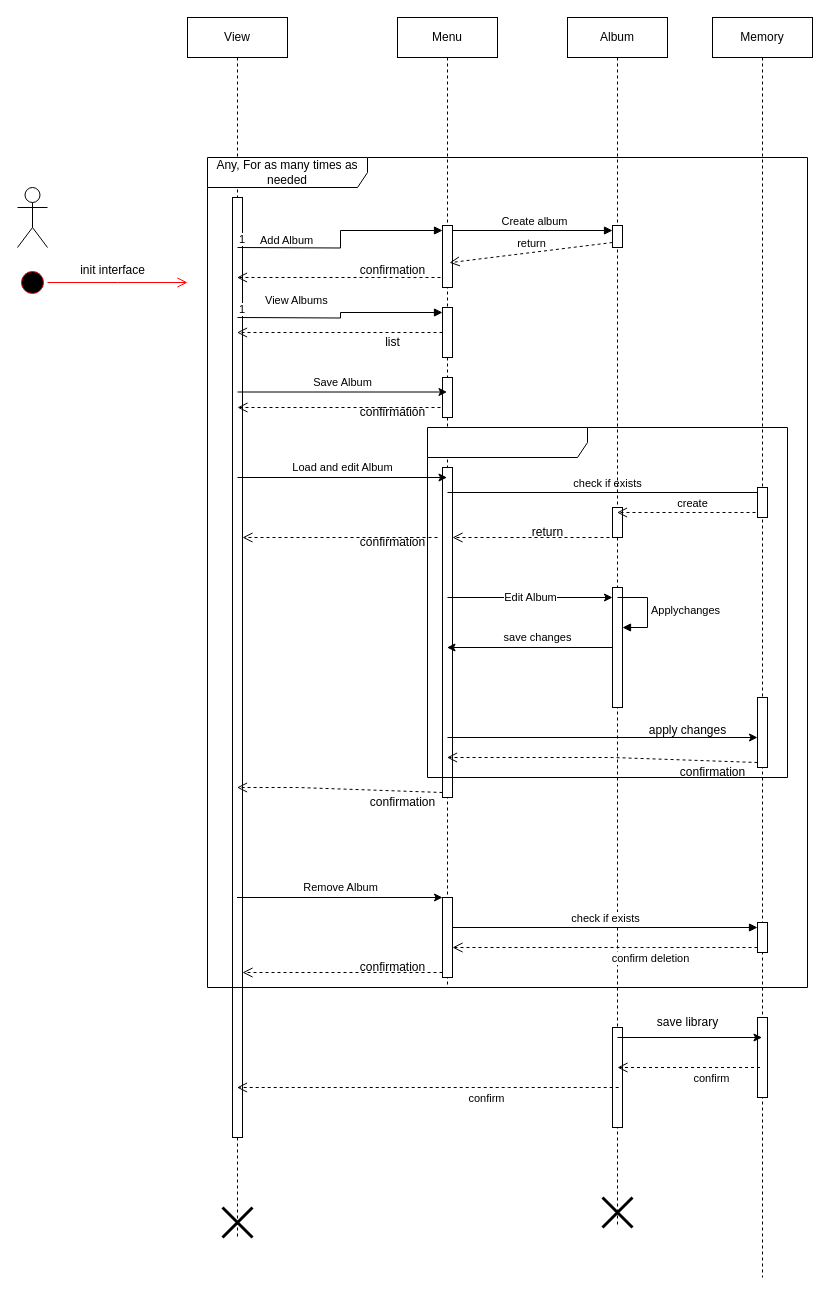
This 830x1295 diagram has some shape labels left out. The shapes that lost their labels are listed below. From the top down, each one's centre as x and y in pixels, then its label:
the point at 32,217: Actor
the point at 607,602: For as many times as needed
